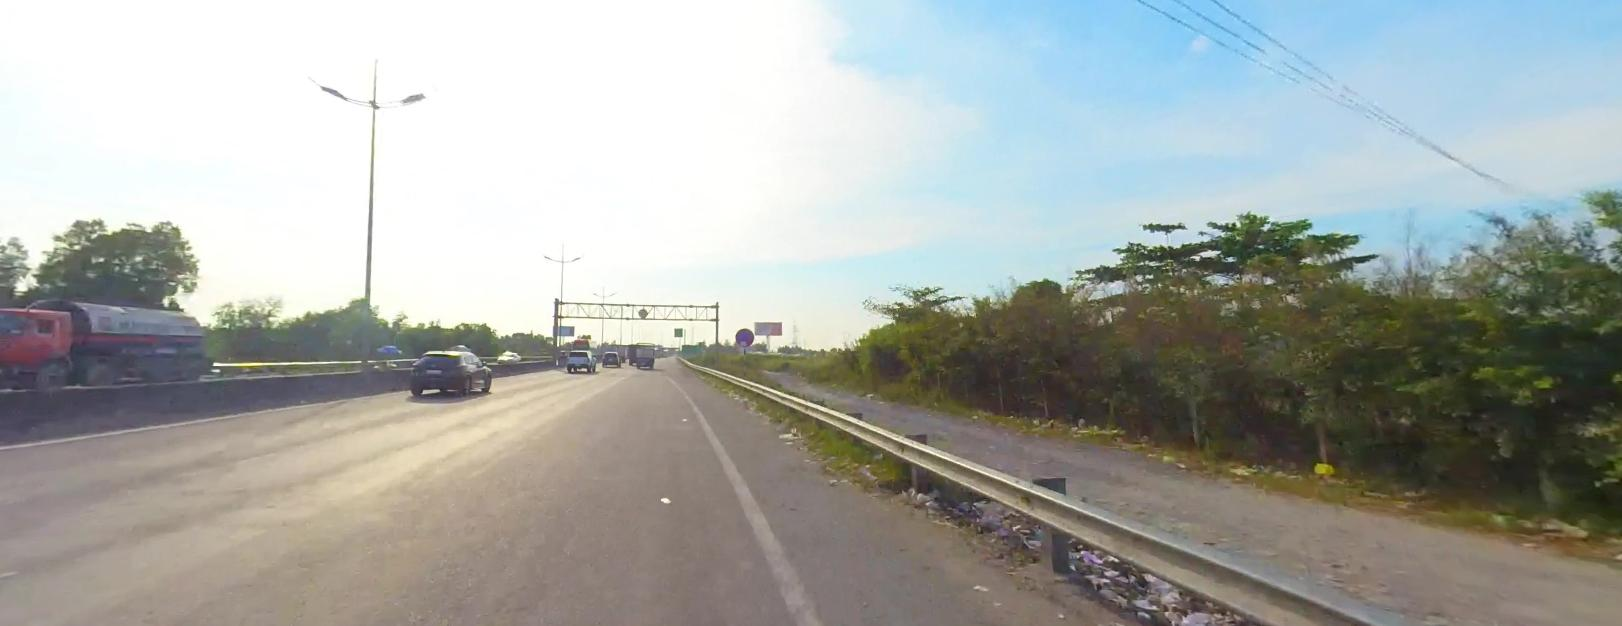Cam dung va do: (734, 326, 753, 345)
